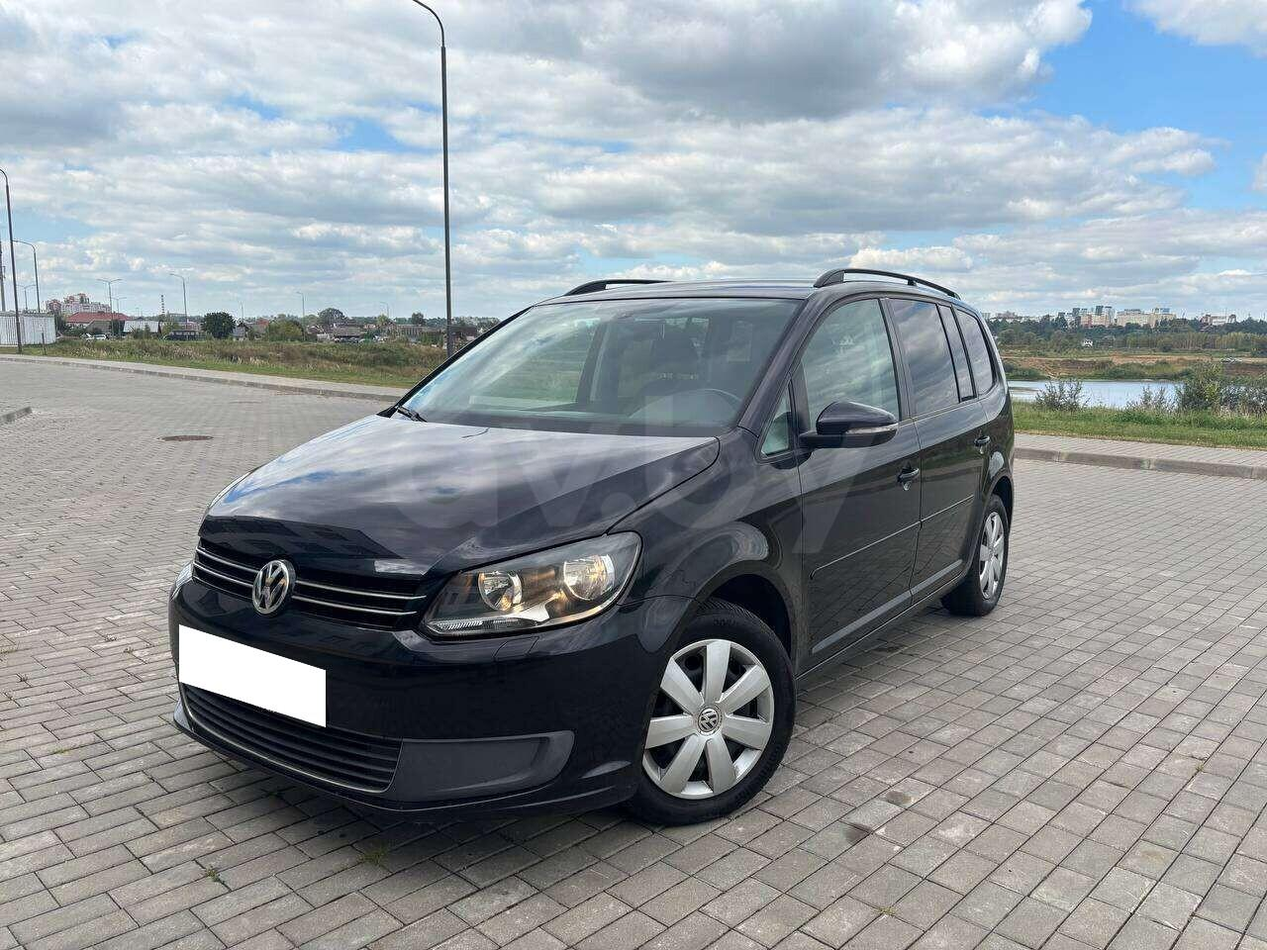Touran_2010-2015: (165, 271, 1018, 824)
